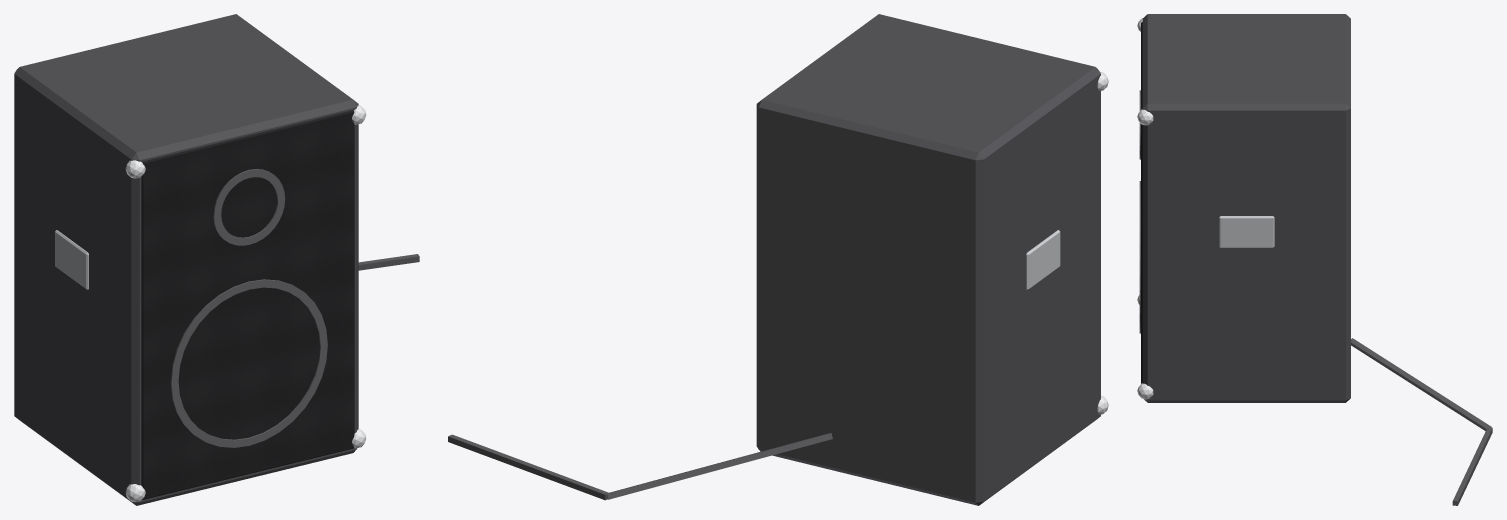
File: caixa_som.glb
3 views of the same model, side by side, from view 1: azimuth 30°, elevation 25°; view 2: azimuth 150°, elevation 25°; view 3: azimuth 270°, elevation 25° (orthographic). The views are drawn at different scales.
Visible parts, largest first — view 1: caixa_som_preto_palco, caixa_som_tela_som, caixa_som_esmalte_escuro, caixa_som_aco, caixa_som_aco_polido, caixa_som_borracha; view 2: caixa_som_preto_palco, caixa_som_borracha, caixa_som_aco; view 3: caixa_som_preto_palco, caixa_som_borracha, caixa_som_aco, caixa_som_tela_som, caixa_som_aco_polido, caixa_som_esmalte_escuro.
Part boxes in pixels (<box>): caixa_som_preto_palco: <box>14,14,358,505</box>; caixa_som_tela_som: <box>141,110,354,499</box>; caixa_som_esmalte_escuro: <box>170,169,327,447</box>; caixa_som_aco: <box>55,230,88,289</box>; caixa_som_aco_polido: <box>125,105,366,502</box>; caixa_som_borracha: <box>358,254,419,270</box>; caixa_som_preto_palco: <box>756,14,1100,505</box>; caixa_som_borracha: <box>448,433,832,500</box>; caixa_som_aco: <box>1026,230,1060,289</box>; caixa_som_preto_palco: <box>1142,14,1350,402</box>; caixa_som_borracha: <box>1351,338,1492,505</box>; caixa_som_aco: <box>1219,216,1274,247</box>; caixa_som_tela_som: <box>1141,22,1142,383</box>; caixa_som_aco_polido: <box>1137,18,1153,399</box>; caixa_som_esmalte_escuro: <box>1139,90,1140,333</box>.
Size of the model in its own units: 1.34 by 0.9547 by 1.02.
6 materials, 1 textured.
